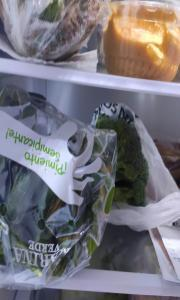Brocoli: (96, 115, 150, 206)
Humus: (103, 0, 180, 82)
Pina: (0, 0, 101, 61)
